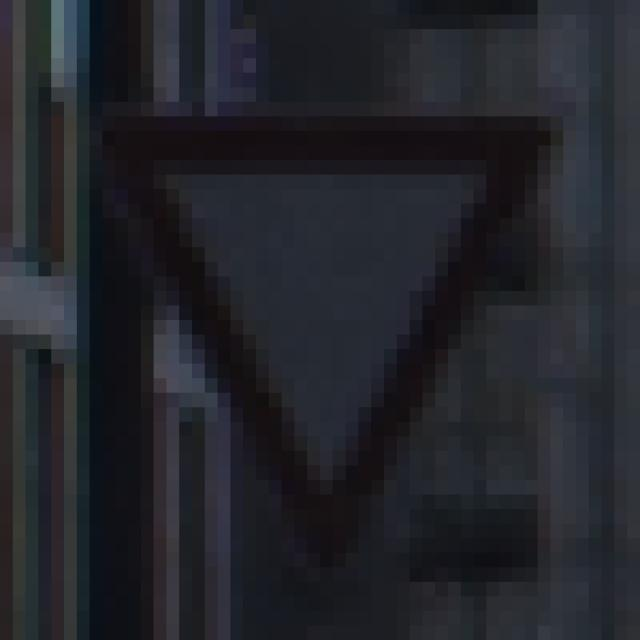Give Way: (78, 74, 577, 568)
